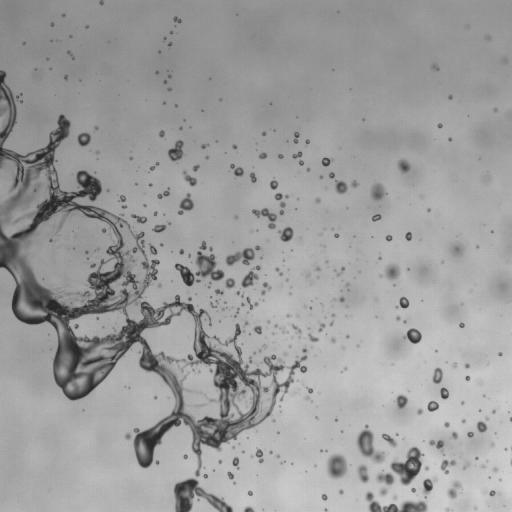droplet: (175, 241, 224, 286), (326, 453, 348, 479), (168, 140, 184, 161), (178, 193, 193, 214), (370, 183, 387, 200), (383, 263, 400, 279), (403, 328, 421, 343), (447, 480, 462, 498), (356, 464, 369, 483), (440, 459, 456, 474), (278, 227, 293, 241), (241, 297, 258, 309), (77, 132, 90, 146), (397, 159, 410, 173), (395, 394, 407, 409), (335, 180, 347, 194), (432, 367, 442, 383), (230, 164, 243, 176), (292, 152, 303, 165), (397, 297, 409, 308), (261, 282, 271, 295), (255, 448, 263, 462), (427, 401, 438, 411), (477, 421, 487, 432), (225, 278, 235, 288), (153, 225, 165, 233), (440, 387, 448, 399), (322, 157, 332, 166), (308, 333, 318, 342), (270, 179, 278, 189), (482, 174, 490, 183), (453, 245, 461, 254), (253, 325, 261, 334), (249, 172, 256, 182), (149, 244, 156, 254), (318, 322, 325, 332), (232, 457, 238, 468), (372, 214, 381, 221), (210, 300, 218, 307), (279, 326, 287, 333), (405, 232, 411, 241), (259, 152, 266, 159), (351, 180, 358, 187), (173, 17, 181, 23), (215, 289, 223, 295), (431, 64, 438, 70), (158, 130, 164, 137), (306, 387, 313, 393), (451, 432, 457, 439), (227, 472, 233, 479), (193, 165, 199, 171), (119, 195, 125, 201), (386, 235, 392, 241), (417, 408, 423, 414), (489, 490, 495, 496), (321, 494, 327, 500), (236, 291, 243, 296), (329, 172, 334, 178), (467, 432, 473, 437), (201, 144, 208, 148), (339, 297, 344, 302), (305, 395, 310, 400), (444, 422, 449, 427), (437, 123, 442, 127), (232, 144, 237, 148), (278, 154, 283, 158), (315, 198, 320, 202), (179, 249, 183, 254), (315, 267, 320, 271), (306, 273, 310, 278), (345, 283, 349, 288), (459, 323, 464, 327), (331, 338, 335, 343), (465, 363, 469, 368), (465, 376, 470, 380), (339, 489, 343, 494), (445, 508, 451, 511), (99, 0, 103, 4), (486, 35, 490, 39), (448, 95, 452, 99), (94, 126, 98, 130), (305, 140, 309, 144), (122, 204, 126, 208), (334, 233, 338, 237), (396, 316, 400, 320), (244, 321, 248, 325), (262, 344, 266, 348), (183, 455, 187, 459), (493, 467, 497, 471), (203, 474, 207, 478), (411, 488, 415, 492), (248, 491, 252, 495), (393, 495, 397, 499), (286, 314, 291, 317), (453, 362, 456, 367), (168, 87, 171, 91), (95, 247, 99, 250), (157, 284, 161, 287), (330, 321, 333, 325), (343, 367, 347, 370), (485, 416, 488, 420), (461, 419, 465, 422), (491, 443, 494, 447), (481, 464, 484, 468), (425, 466, 428, 470), (168, 42, 171, 45), (64, 76, 67, 79), (494, 108, 497, 111), (262, 132, 265, 135), (285, 195, 288, 198), (154, 212, 157, 215), (85, 250, 88, 253), (236, 309, 239, 312), (284, 352, 287, 355), (498, 352, 501, 355), (492, 410, 495, 413), (218, 460, 221, 463), (509, 417, 511, 421), (86, 25, 88, 28), (168, 75, 171, 77), (179, 127, 182, 129), (448, 138, 451, 140), (129, 157, 132, 159), (307, 168, 309, 171), (320, 175, 322, 178), (149, 183, 151, 186), (427, 209, 430, 211), (234, 216, 237, 218), (209, 322, 211, 325), (346, 335, 349, 337), (154, 396, 157, 398), (335, 418, 337, 421), (269, 451, 272, 453), (276, 455, 279, 457), (62, 14, 64, 16), (51, 23, 53, 25), (164, 81, 166, 83), (19, 100, 21, 102), (206, 156, 208, 158), (16, 219, 18, 221), (168, 222, 170, 224), (207, 284, 209, 286), (222, 308, 224, 310), (332, 314, 334, 316), (267, 320, 269, 322), (404, 320, 406, 322), (275, 324, 277, 326), (293, 392, 295, 394), (461, 401, 463, 403), (325, 509, 327, 511)
ligament: (0, 70, 307, 511), (365, 478, 437, 511), (376, 446, 423, 496), (356, 425, 387, 463), (225, 245, 260, 265), (252, 208, 276, 229), (241, 265, 260, 287), (274, 193, 285, 214), (182, 171, 196, 186), (381, 433, 396, 447), (429, 440, 444, 454), (131, 214, 146, 223), (157, 188, 169, 198), (291, 324, 301, 336), (150, 162, 158, 171), (336, 267, 344, 276), (294, 132, 299, 143), (243, 506, 254, 511), (275, 268, 282, 275), (67, 51, 73, 57), (463, 463, 469, 469), (510, 459, 511, 465)
